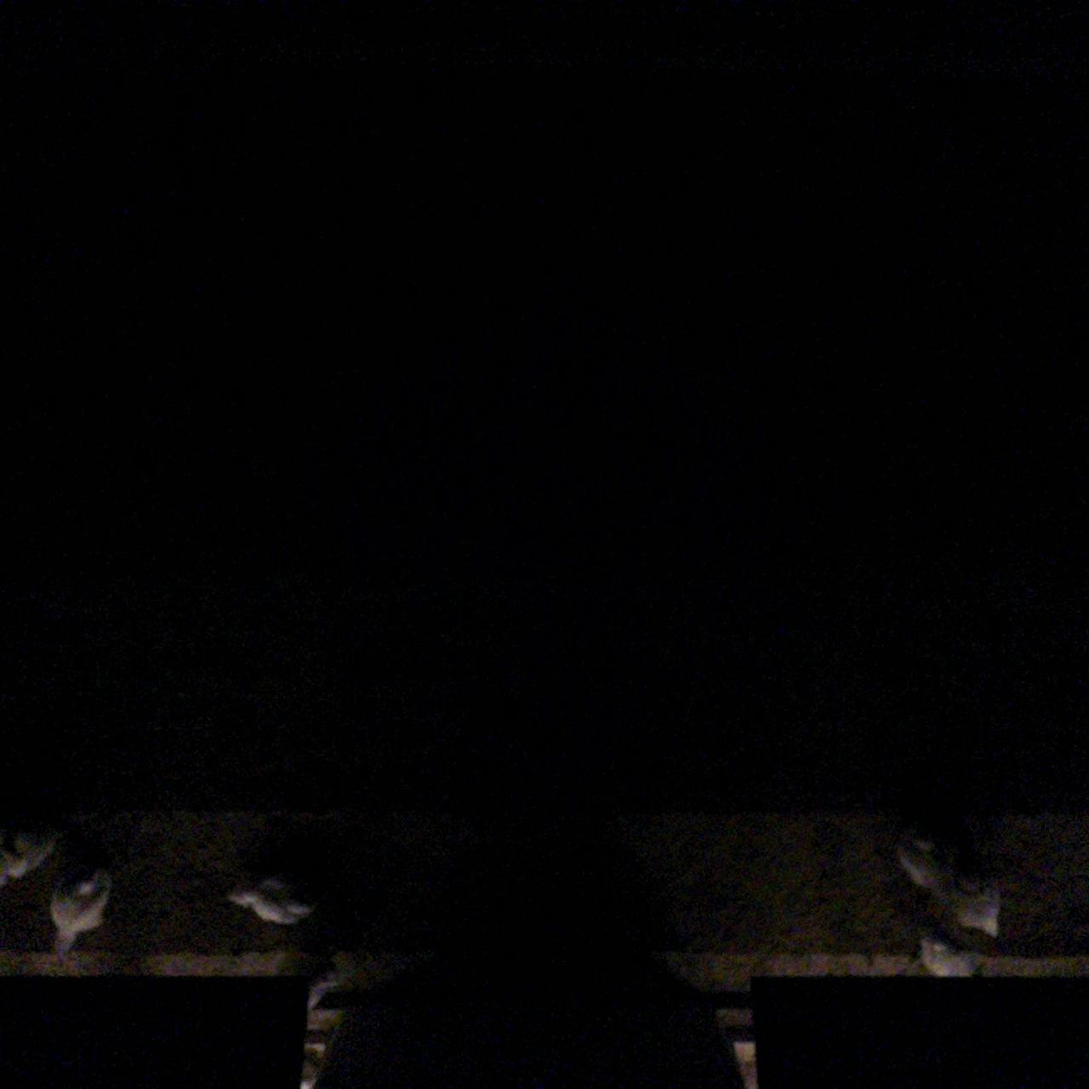chicken: (222, 866, 319, 931), (48, 868, 116, 957), (889, 824, 955, 900), (941, 871, 1007, 944), (910, 927, 979, 989), (0, 827, 70, 885)
